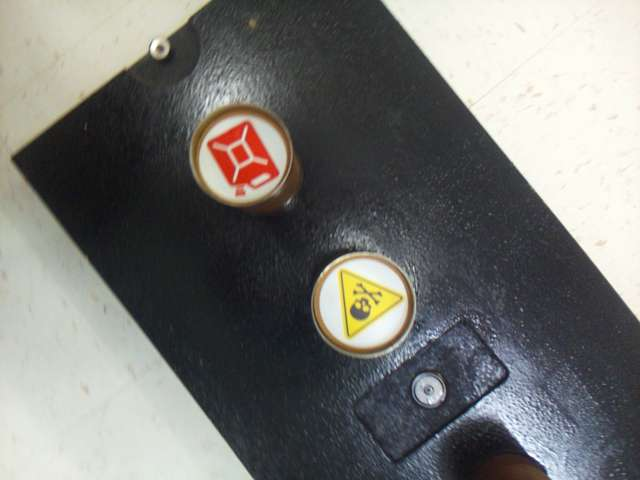gasoline: (202, 115, 286, 202)
toxic_fluid: (320, 261, 407, 347)
